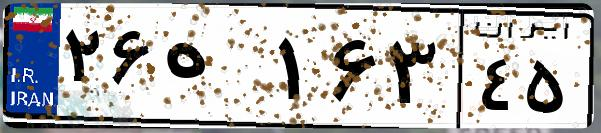1: (270, 28, 330, 110)
2: (57, 26, 110, 100)
3: (385, 28, 445, 110)
4: (475, 38, 525, 113)
5: (525, 38, 570, 115)
6: (330, 28, 385, 110), (110, 28, 158, 98)
ه: (158, 20, 270, 120)
